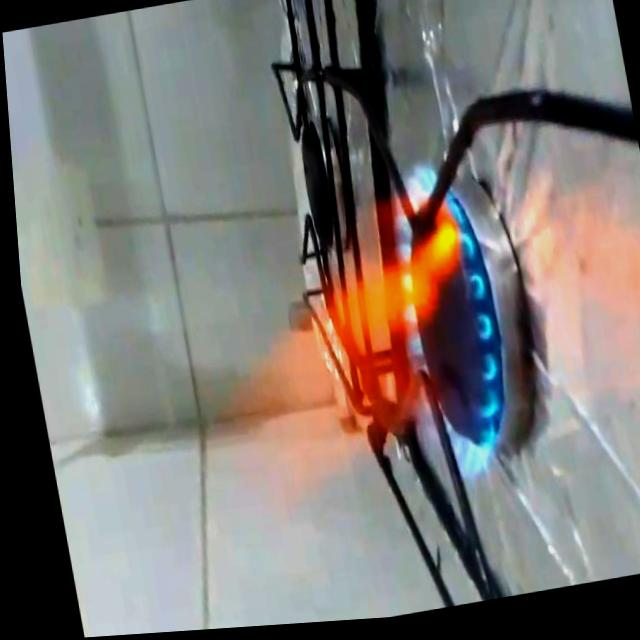Fire: (156, 156, 520, 536)
